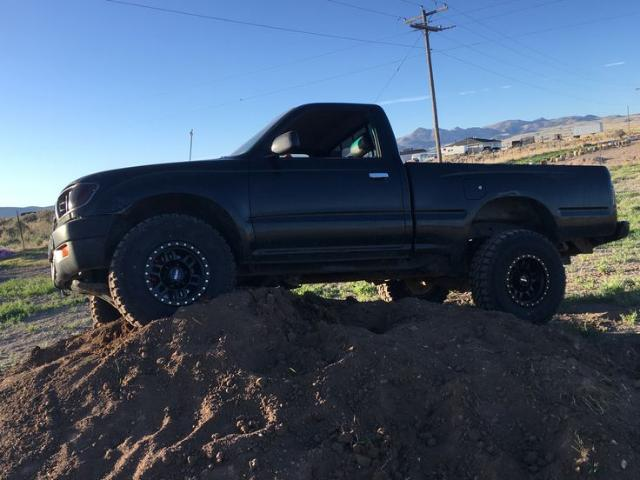pickup-truck: (47, 103, 630, 331)
